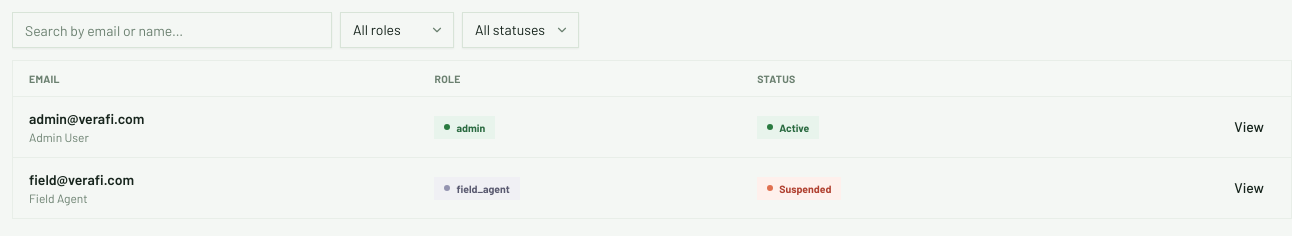
Test: UserTable › filters by search term across email and name
The image size is (1292, 236).
Type "field" into the field with placeholder "Search by email or name…".
click(172, 30); type("field")  # box [12,12,332,48]
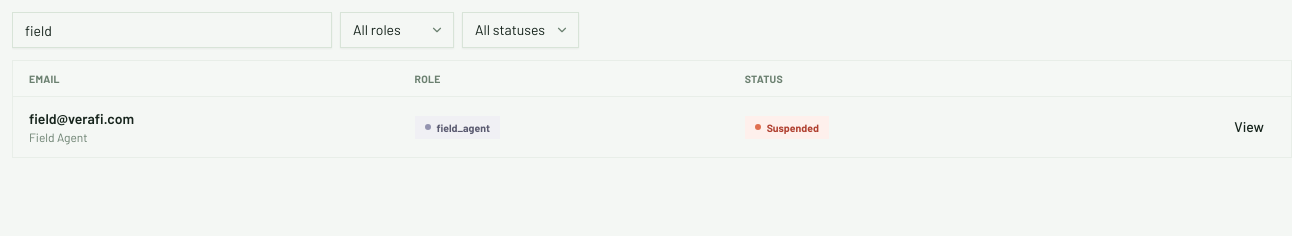
Expected: the text "field@verafi.com" is shown, [29,110,134,127]
Expected: the text "admin@verafi.com" is gone
